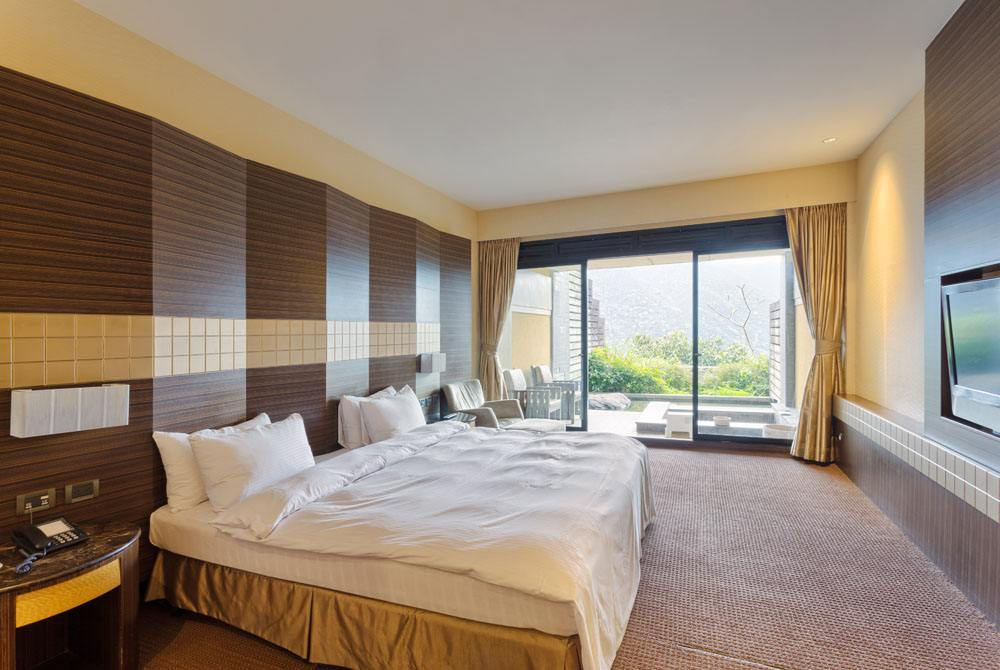床: (147, 420, 674, 659)
枕头: (157, 415, 321, 514), (336, 379, 431, 448)
灯: (820, 134, 840, 147)
